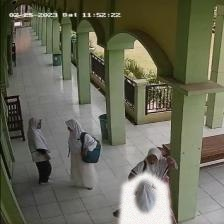Mukena: (118, 170, 172, 224)
